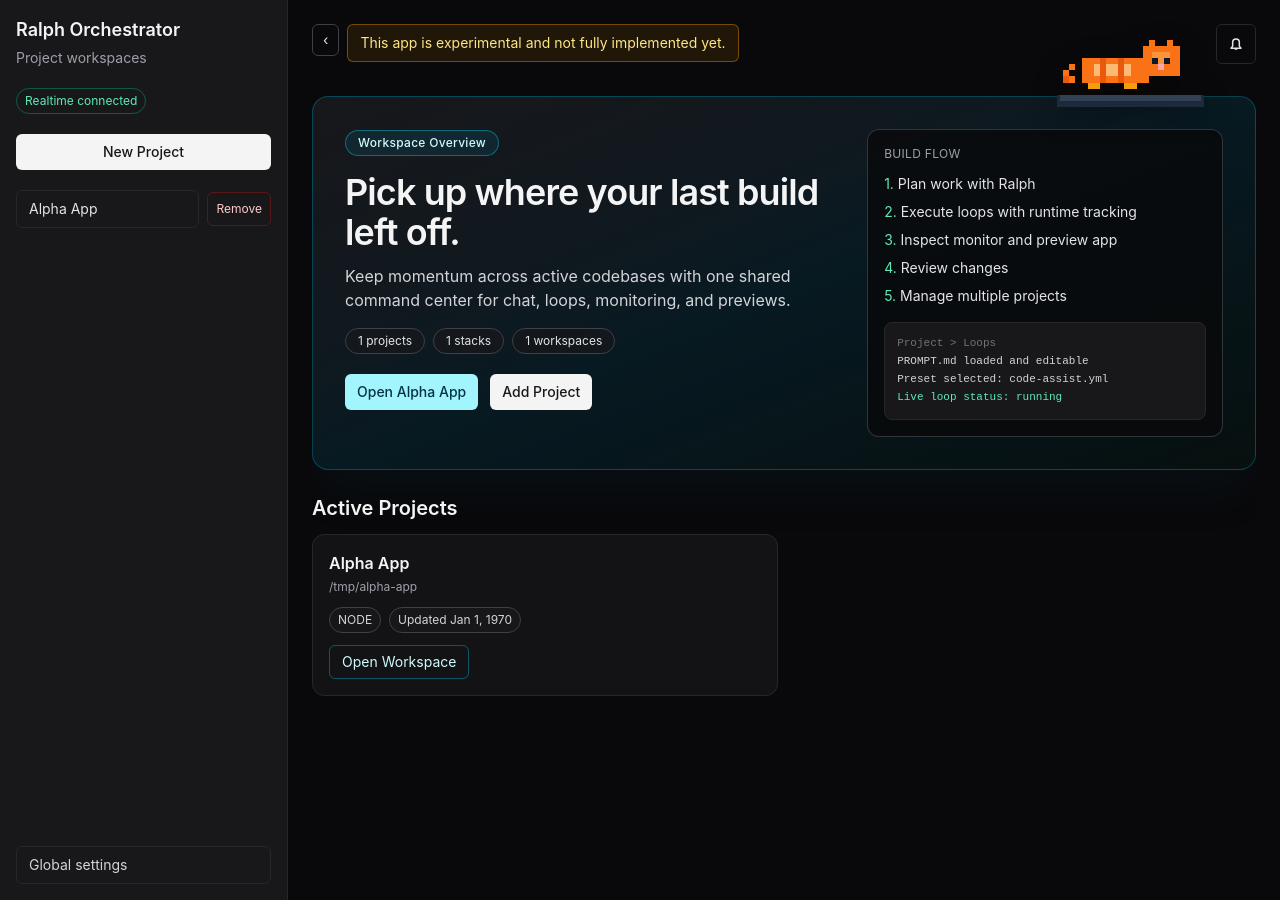
App › switches tabs with Cmd+number shortcuts for the active project
Click the button "Alpha App" at point(108, 209), box [16,190,200,228]
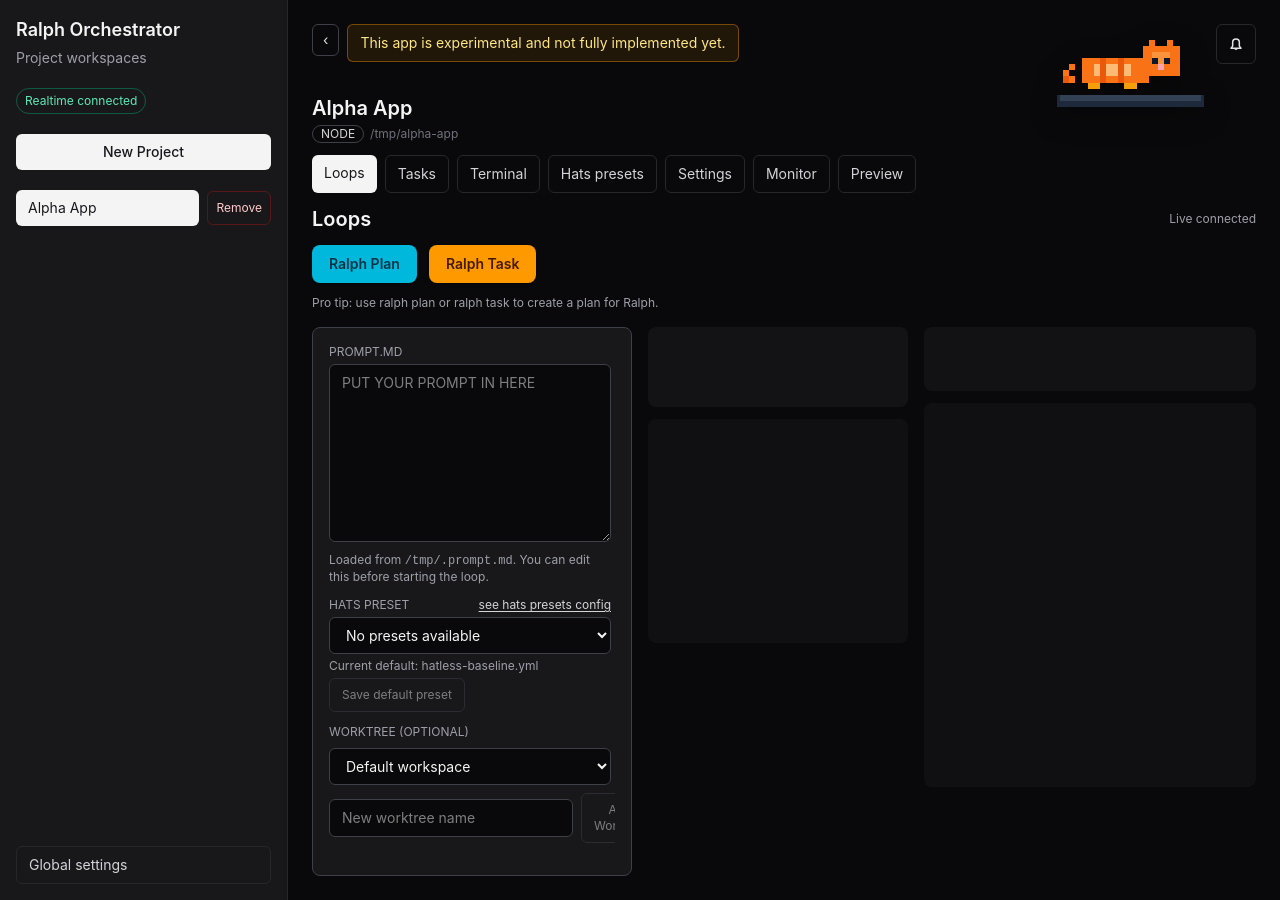
Press 1
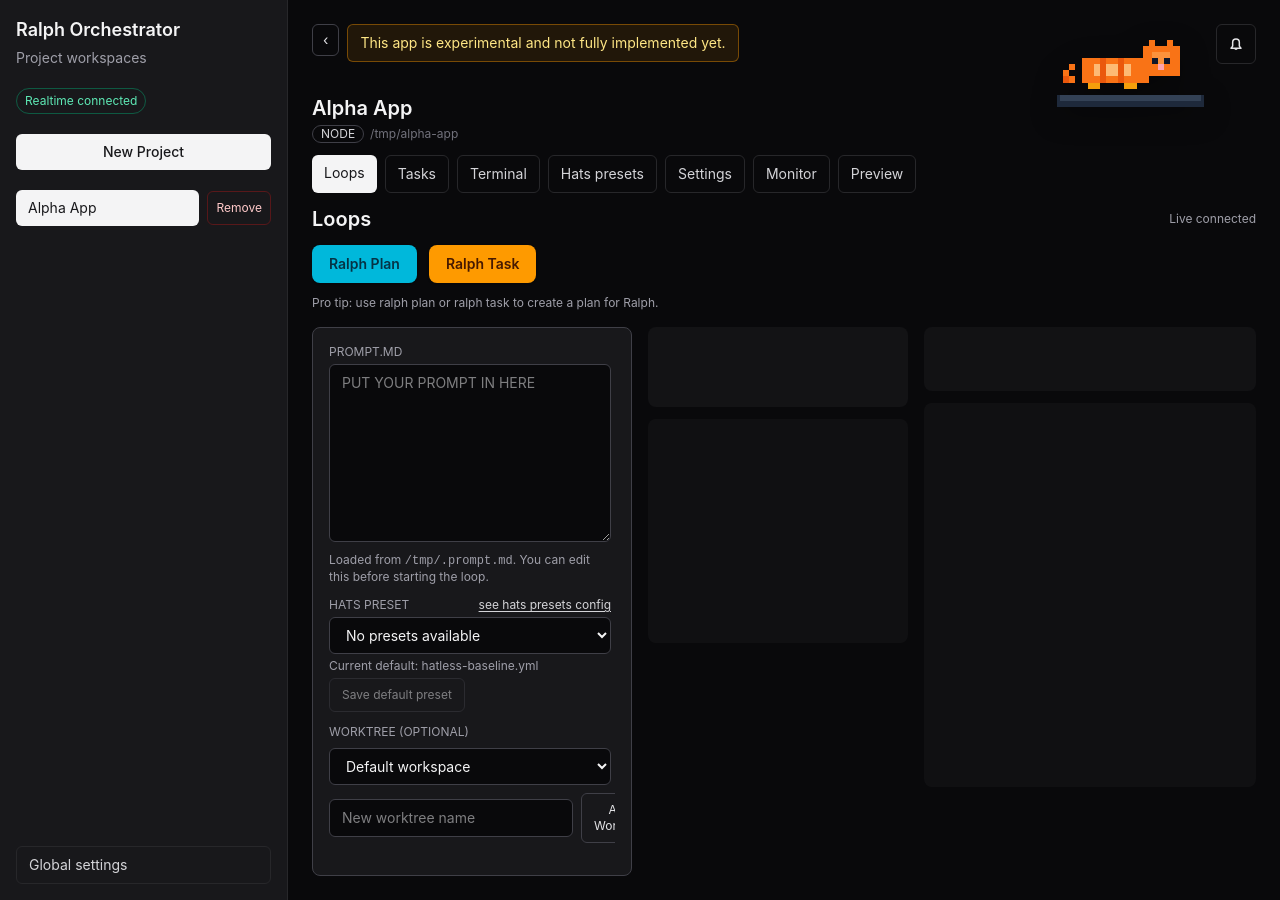
Now the heading "Loops" is shown, box [312,205,371,233]
Press 2
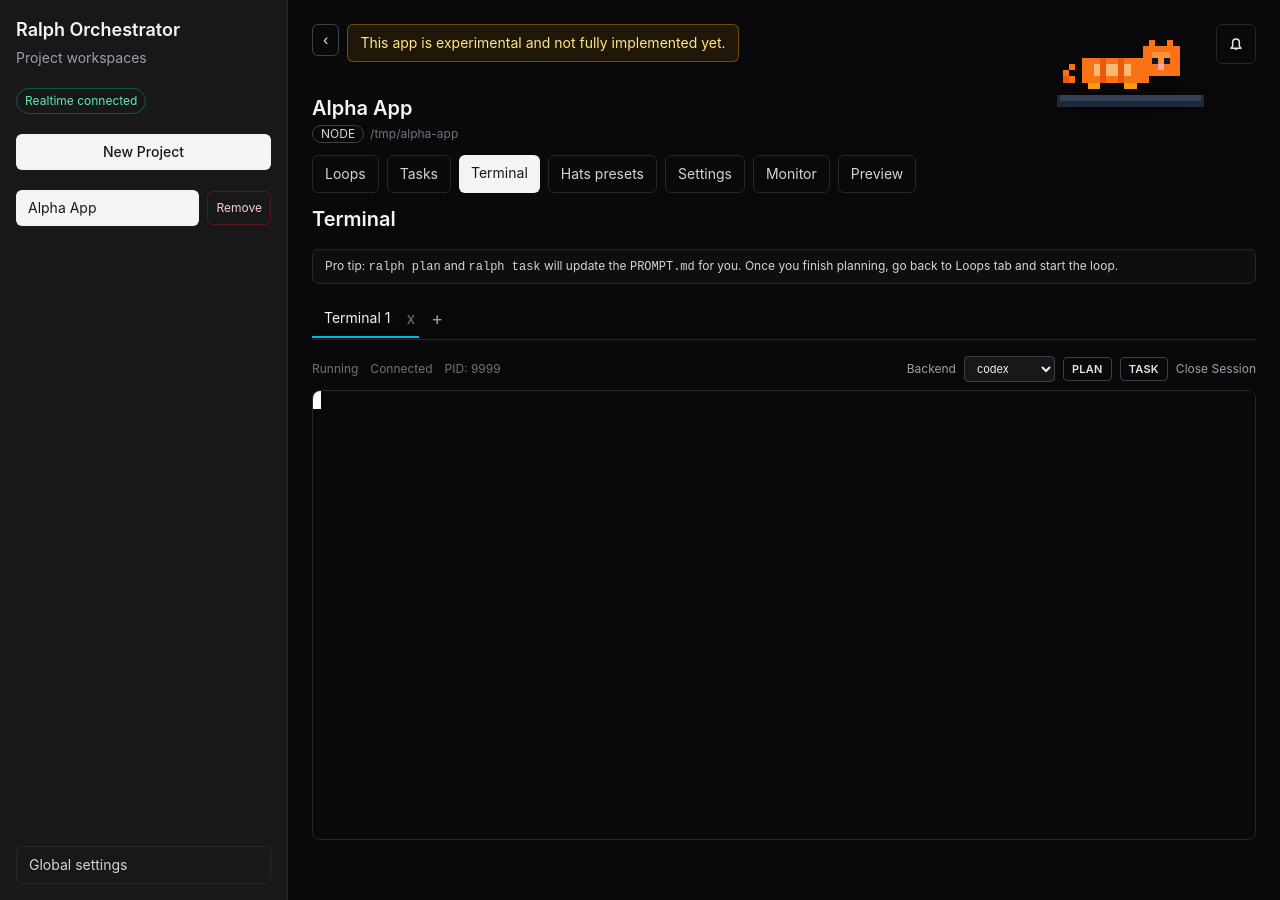
Now the button "Terminal 1" is shown, box [312,300,402,336]
